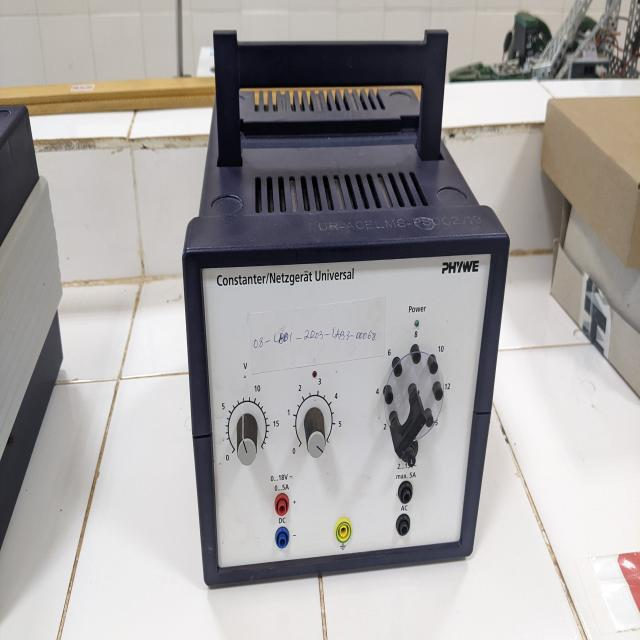Netzgerat Universal Power Supply: (174, 11, 514, 594)
